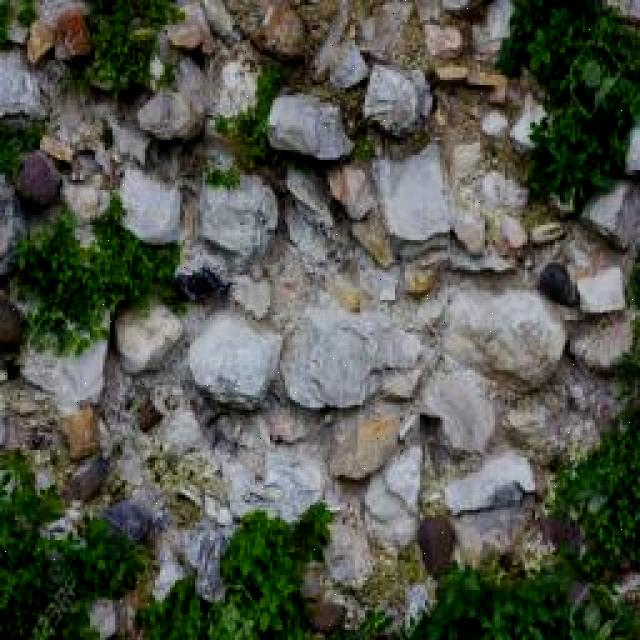crack: (1, 0, 637, 637)
vegetation: (494, 0, 638, 216), (8, 194, 182, 358), (2, 461, 151, 640), (207, 506, 329, 636), (176, 170, 282, 294), (77, 1, 190, 96), (207, 61, 287, 169), (449, 163, 533, 258), (133, 59, 213, 144), (2, 455, 64, 548), (354, 1, 427, 68), (311, 20, 369, 85)
